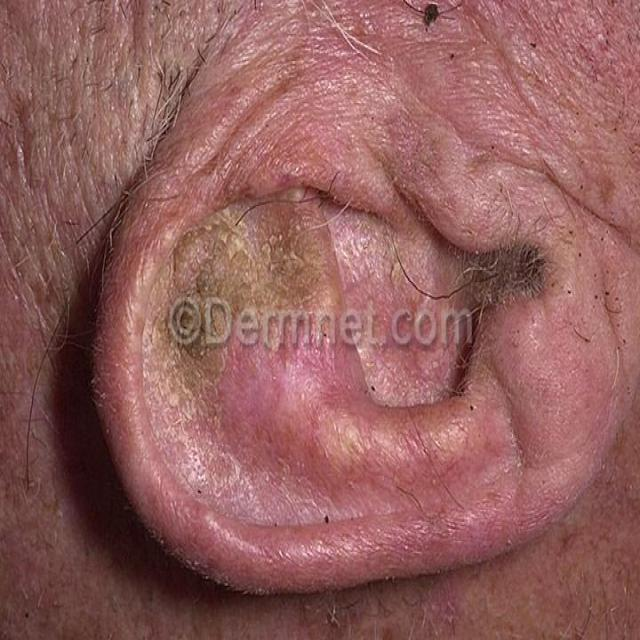Eczema: (142, 173, 544, 505)
